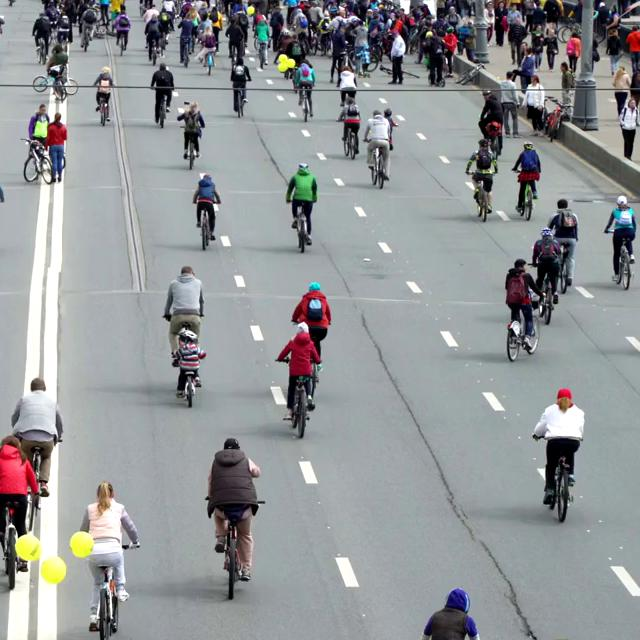bicycle: (204, 496, 265, 599), (90, 541, 140, 639), (532, 433, 583, 522), (0, 492, 41, 589), (275, 357, 321, 438), (505, 297, 541, 361), (526, 262, 557, 325), (604, 230, 635, 290), (172, 357, 205, 407), (466, 170, 496, 222), (20, 137, 53, 184), (543, 96, 573, 142), (512, 168, 538, 221), (363, 140, 390, 189), (195, 199, 220, 250), (289, 201, 311, 253), (556, 241, 575, 293), (339, 116, 361, 159), (151, 87, 173, 128), (181, 128, 202, 170), (500, 102, 523, 138), (295, 82, 314, 122), (455, 62, 486, 85), (485, 122, 503, 160), (427, 54, 447, 87), (95, 90, 112, 126), (232, 84, 247, 118), (254, 38, 269, 70)
